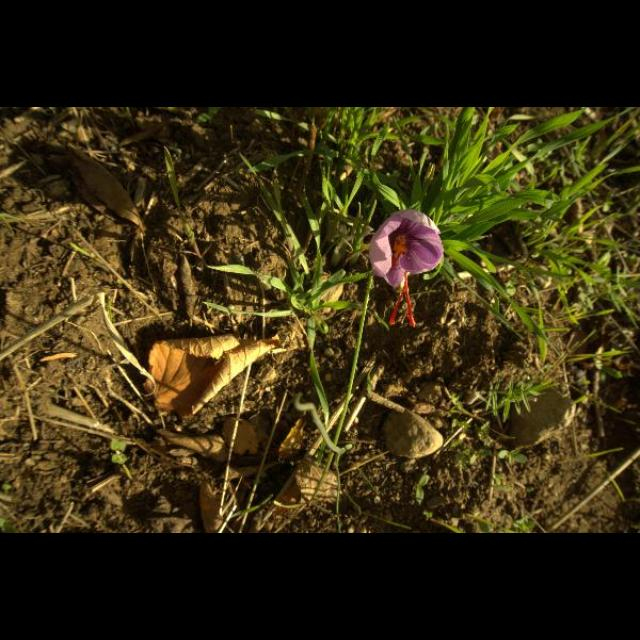flower: (368, 209, 444, 327)
